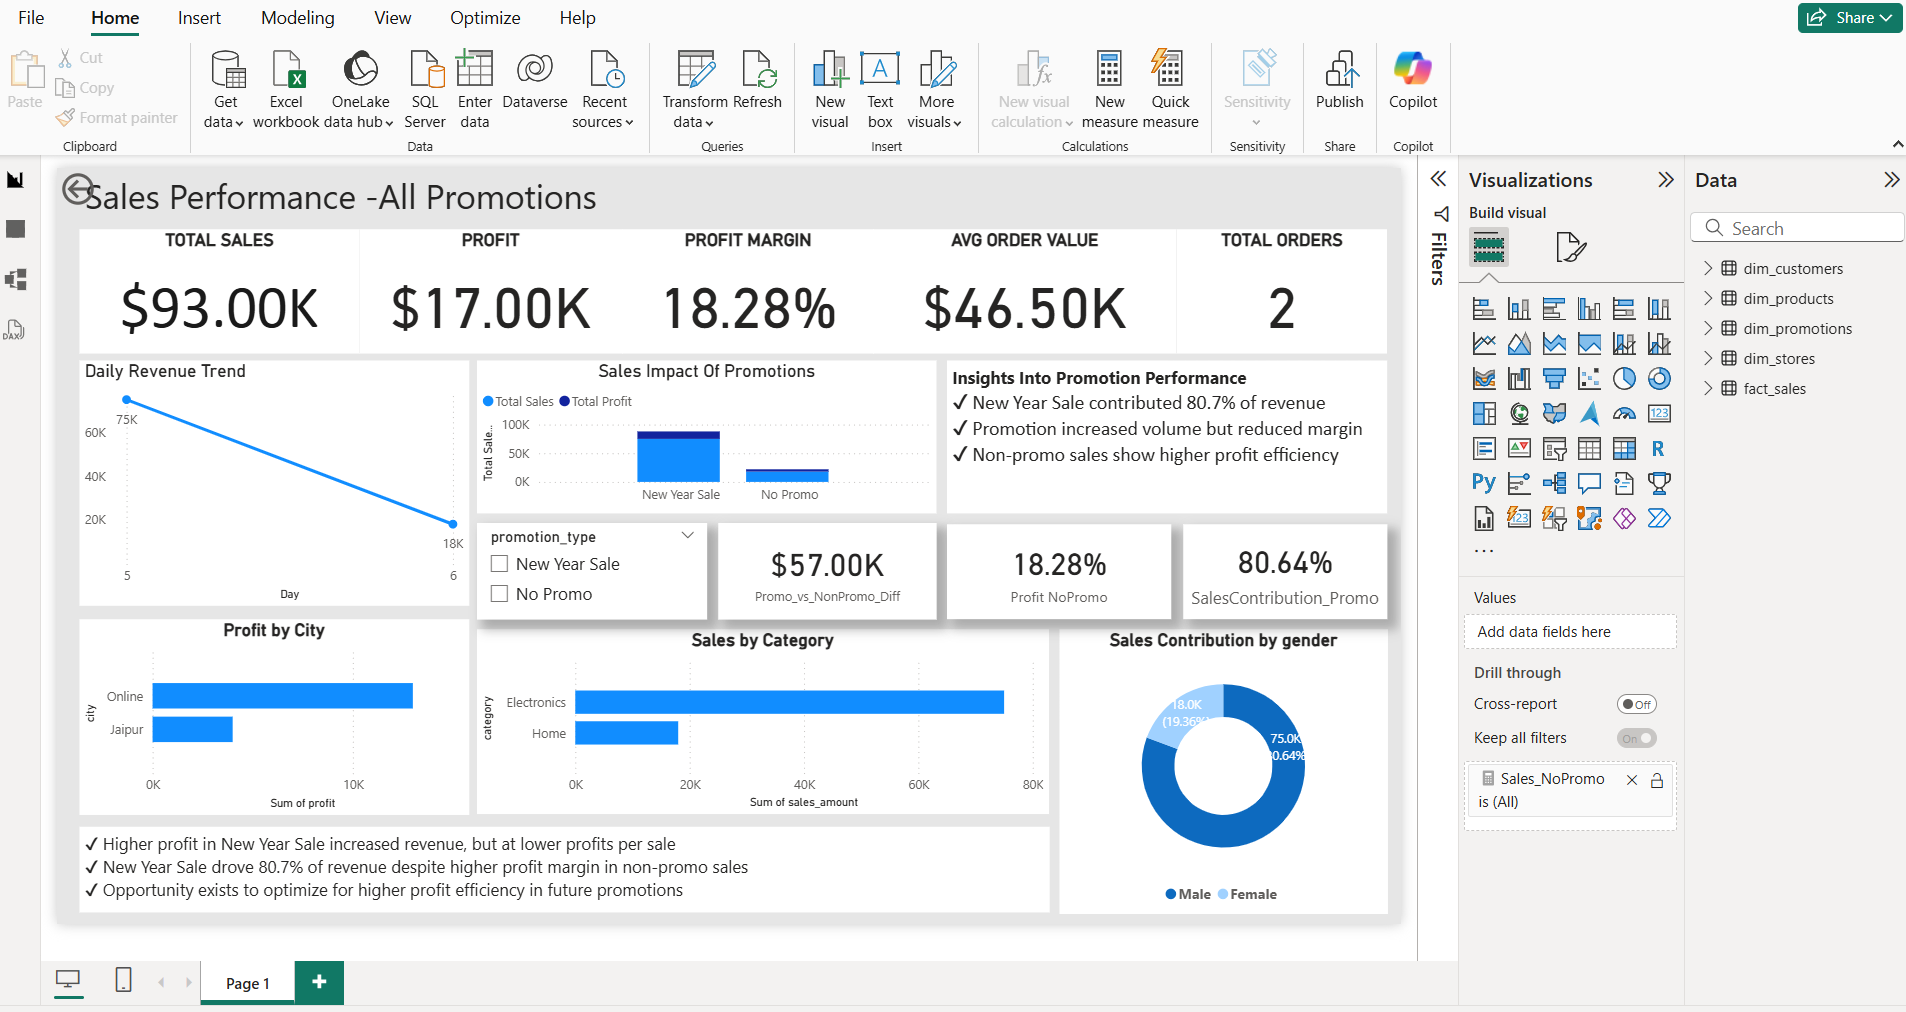

This screenshot's page, from the dashboard's own definition file:
{"tool":"powerbi","page":{"name":"Page 1","canvas":[1280,720],"ordinal":0},"visuals":[{"type":"card","title":"TOTAL SALES","fields":{"Values":["Sum(fact_sales.sales_amount)"]},"box":[20.8,58.3,266.7,118.1],"z":0},{"type":"card","title":"PROFIT","fields":{"Values":["Sum(fact_sales.profit)"]},"box":[287.5,58.3,250,118.1],"z":1000},{"type":"card","title":"TOTAL ORDERS","fields":{"Values":["CountNonNull(fact_sales.order_id)"]},"box":[1066.7,58.3,200,118.1],"z":2000},{"type":"clusteredBarChart","title":"Sales by Category","fields":{"Category":["dim_products.category"],"Y":["Sum(fact_sales.sales_amount)"]},"box":[400,438.9,544.4,176.4],"z":3000},{"type":"lineChart","title":"Daily Revenue Trend","fields":{"Y":["Sum(fact_sales.sales_amount)"],"Category":["fact_sales.order_date.Variation.Date Hierarchy.Day"]},"box":[20.8,183.3,370.8,233.3],"z":4000},{"type":"columnChart","title":"Sales Impact Of Promotions","fields":{"Category":["dim_promotions.promotion_type"],"Y":["fact_sales.Total Sales","fact_sales.Total Profit"]},"box":[400,183.3,437.5,145.8],"z":5000},{"type":"barChart","title":"Profit by City","fields":{"Category":["dim_stores.city"],"Y":["Sum(fact_sales.profit)"]},"box":[20.8,429.2,370.8,186.1],"z":6000},{"type":"textbox","box":[20.8,0,506.9,58.3],"z":7000},{"type":"slicer","fields":{"Values":["dim_promotions.promotion_type"]},"box":[400,337.5,219.4,91.7],"z":8000},{"type":"card","title":"PROFIT MARGIN","fields":{"Values":["fact_sales.Profit Margin %"]},"box":[537.5,58.3,240.3,118.1],"z":9000},{"type":"card","title":"AVG ORDER VALUE","fields":{"Values":["fact_sales.Avg Order Value"]},"box":[777.8,58.3,288.9,118.1],"z":10000},{"type":"donutChart","title":"Sales Contribution by gender","fields":{"Category":["dim_customers.gender"],"Y":["fact_sales.Total Sales"]},"box":[954.2,438.9,312.5,270.8],"z":11000},{"type":"actionButton","box":[0,0,100,40],"z":12000},{"type":"textbox","box":[847.2,183.3,419.4,145.8],"z":13000},{"type":"card","fields":{"Values":["fact_sales.Promo_vs_NonPromo_Diff"]},"box":[629.2,337.5,208.3,91.7],"z":13001},{"type":"card","fields":{"Values":["fact_sales.ProfitMargin_NoPromo"]},"box":[847.2,338.9,213.9,90.3],"z":13002},{"type":"card","fields":{"Values":["fact_sales.SalesContribution_Promo"]},"box":[1072.2,338.9,194.4,90.3],"z":13003},{"type":"textbox","box":[20.8,627.8,923.6,81.9],"z":13004}]}

Visuals, with their boxes on the page's 1280x720 design canvas (x1, y1, x2, y2). These are canvas units, not pixel positions in the 1906x1012 screenshot, which may show the page scaled, cropped or inside an application window:
"TOTAL SALES" card: x1=21, y1=58, x2=288, y2=176
"PROFIT" card: x1=288, y1=58, x2=538, y2=176
"TOTAL ORDERS" card: x1=1067, y1=58, x2=1267, y2=176
"Sales by Category" clusteredBarChart: x1=400, y1=439, x2=944, y2=615
"Daily Revenue Trend" lineChart: x1=21, y1=183, x2=392, y2=417
"Sales Impact Of Promotions" columnChart: x1=400, y1=183, x2=838, y2=329
"Profit by City" barChart: x1=21, y1=429, x2=392, y2=615
textbox: x1=21, y1=0, x2=528, y2=58
slicer - dim_promotions.promotion_type: x1=400, y1=338, x2=619, y2=429
"PROFIT MARGIN" card: x1=538, y1=58, x2=778, y2=176
"AVG ORDER VALUE" card: x1=778, y1=58, x2=1067, y2=176
"Sales Contribution by gender" donutChart: x1=954, y1=439, x2=1267, y2=710
actionButton: x1=0, y1=0, x2=100, y2=40
textbox: x1=847, y1=183, x2=1267, y2=329
card - fact_sales.Promo_vs_NonPromo_Diff: x1=629, y1=338, x2=838, y2=429
card - fact_sales.ProfitMargin_NoPromo: x1=847, y1=339, x2=1061, y2=429
card - fact_sales.SalesContribution_Promo: x1=1072, y1=339, x2=1267, y2=429
textbox: x1=21, y1=628, x2=944, y2=710
